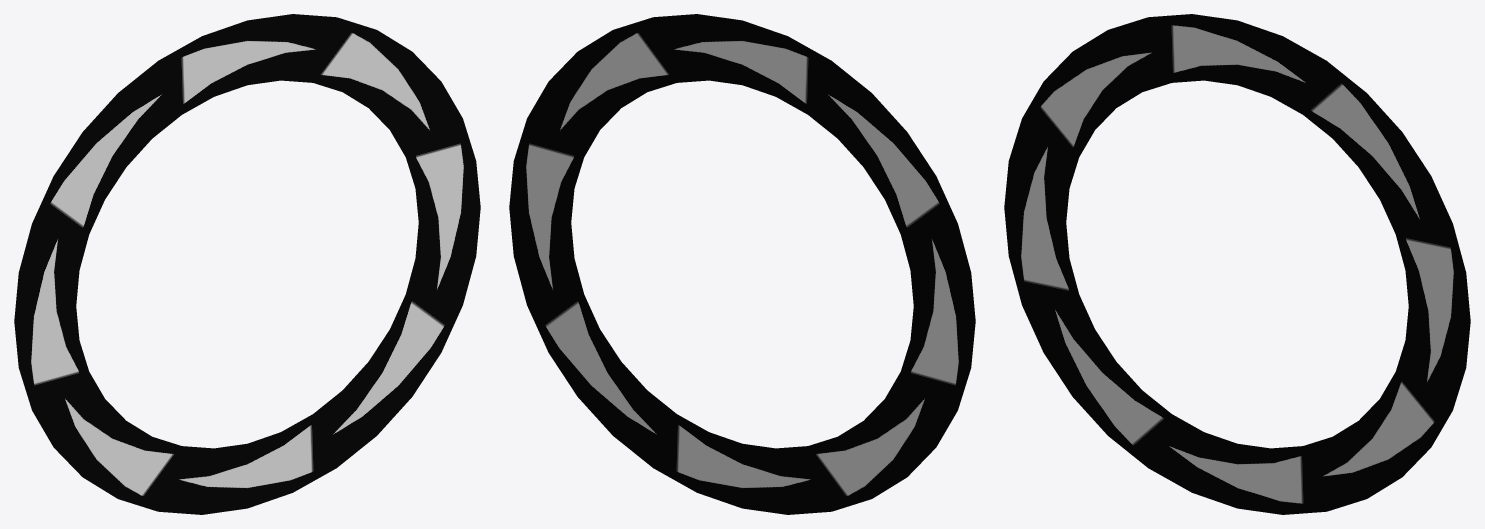
File: ionizationRing.fbx
3 renders of one model, left to right at view 1: azimuth 30°, elevation 25°; view 2: azimuth 150°, elevation 25°; view 3: azimuth 330°, elevation 25°, orthographic.
Visible parts, largest first — view 1: Plane; view 2: Plane; view 3: Plane.
Boxes of the visible parts, <box> form: Plane: <box>14,14,480,514</box>; Plane: <box>509,14,975,514</box>; Plane: <box>1004,14,1470,514</box>.
Size of the model in its own units: 126 by 126 by 2.05e-05.
